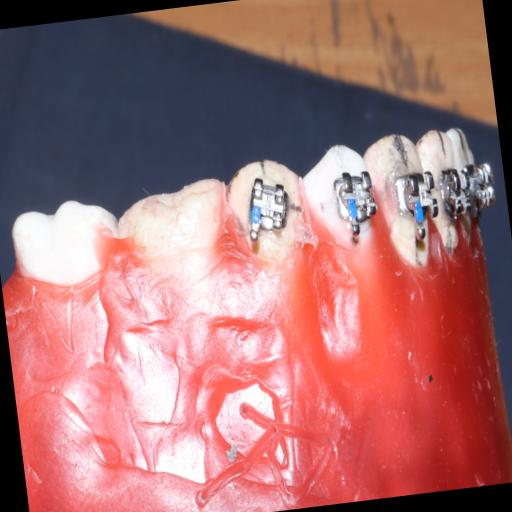incorrect_brace: (243, 170, 294, 231)
